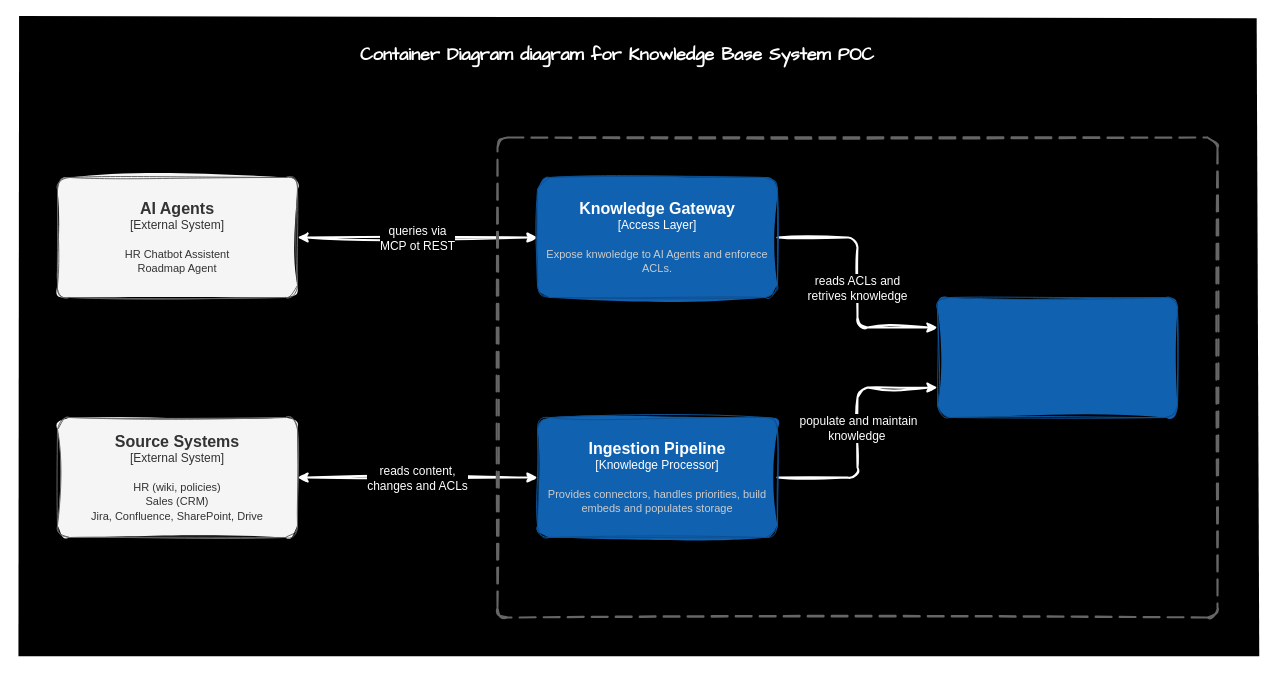
This 1274x674 diagram has some shape labels left out. The box of each missing label's shape, as (x1, y1, x2, y2) in pixels:
Knowledge Store [Storage Layer] Stores knowledge, ACL policies and metadata.: (936, 296, 1178, 418)
Knwoledge Base System [High Level Shape]: (496, 136, 1218, 618)
